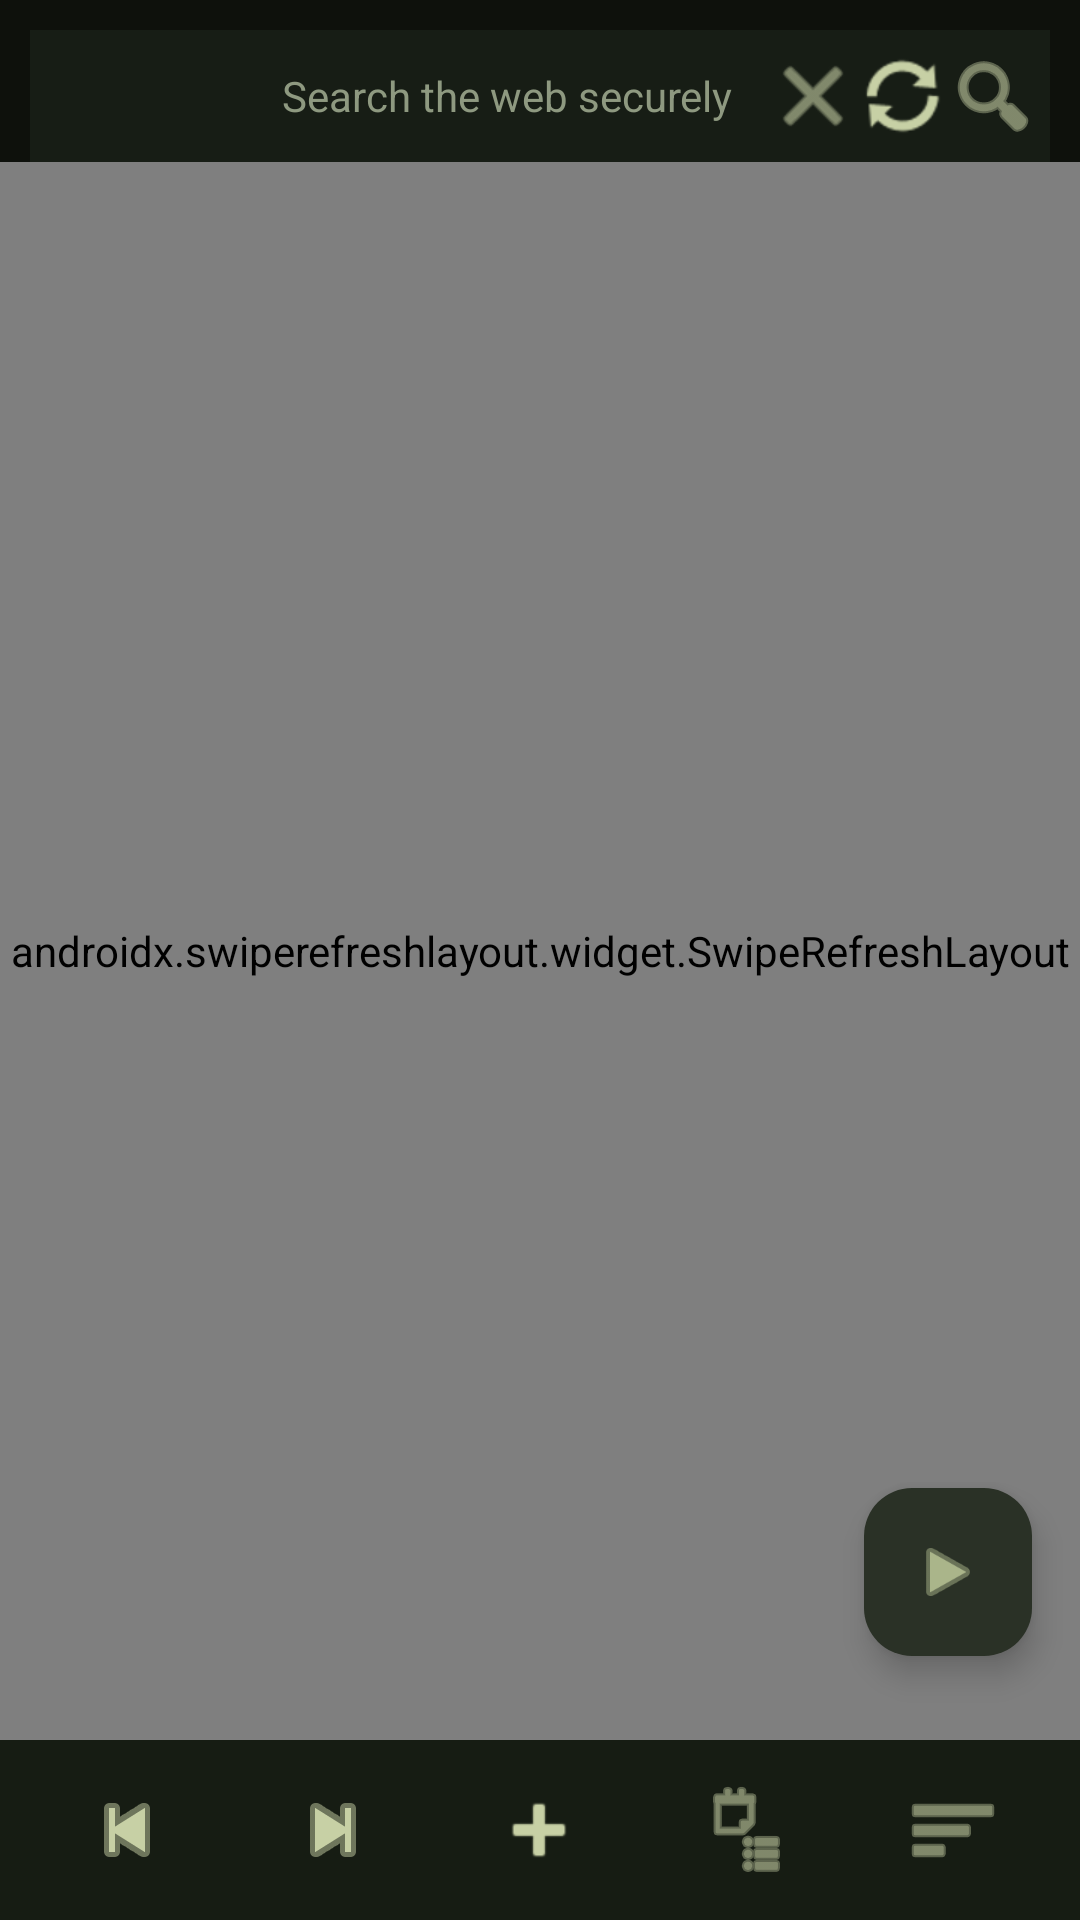

Named icons in this screenshot (1080w x 1920h) and their bounding boxes, (x1, y1, x2, y2):
Back: (104, 1803, 150, 1857)
Clear: (783, 66, 843, 126)
Forward: (310, 1803, 356, 1857)
Menu: (912, 1804, 994, 1857)
New tab: (512, 1803, 566, 1857)
Search: (958, 61, 1028, 132)
Tabs: (713, 1787, 780, 1872)
